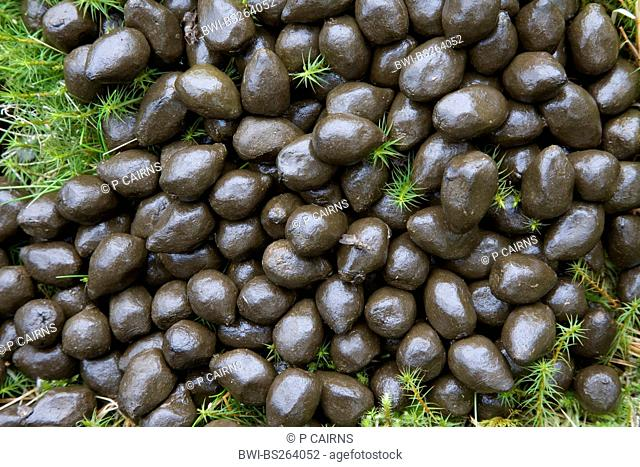Elk: (40, 6, 618, 407)
